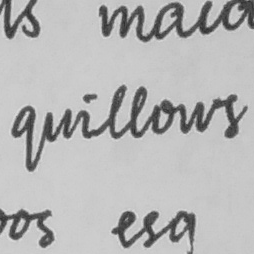i: (76, 92, 100, 140)
l: (106, 83, 129, 140), (127, 83, 149, 141)
o: (150, 98, 176, 136)
q: (8, 103, 37, 172)
s: (219, 92, 250, 140)
u: (41, 107, 73, 143)
w: (177, 97, 215, 136)
